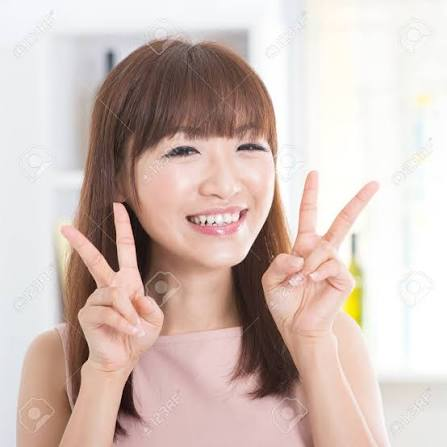peace_sign: (257, 166, 384, 340), (62, 196, 170, 374)
